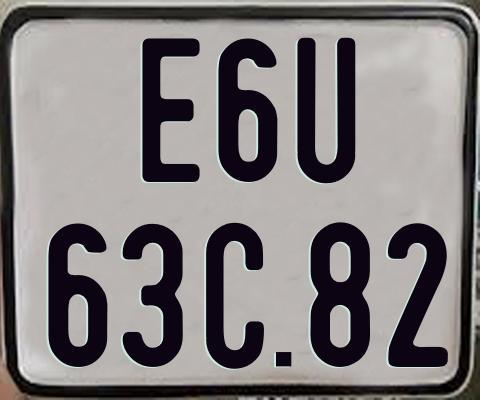2: (388, 221, 454, 369)
3: (120, 221, 184, 365)
6: (218, 38, 280, 187), (48, 220, 108, 369)
8: (309, 222, 371, 373)
C: (206, 221, 267, 370)
E: (142, 37, 205, 187)
U: (296, 38, 358, 189)
